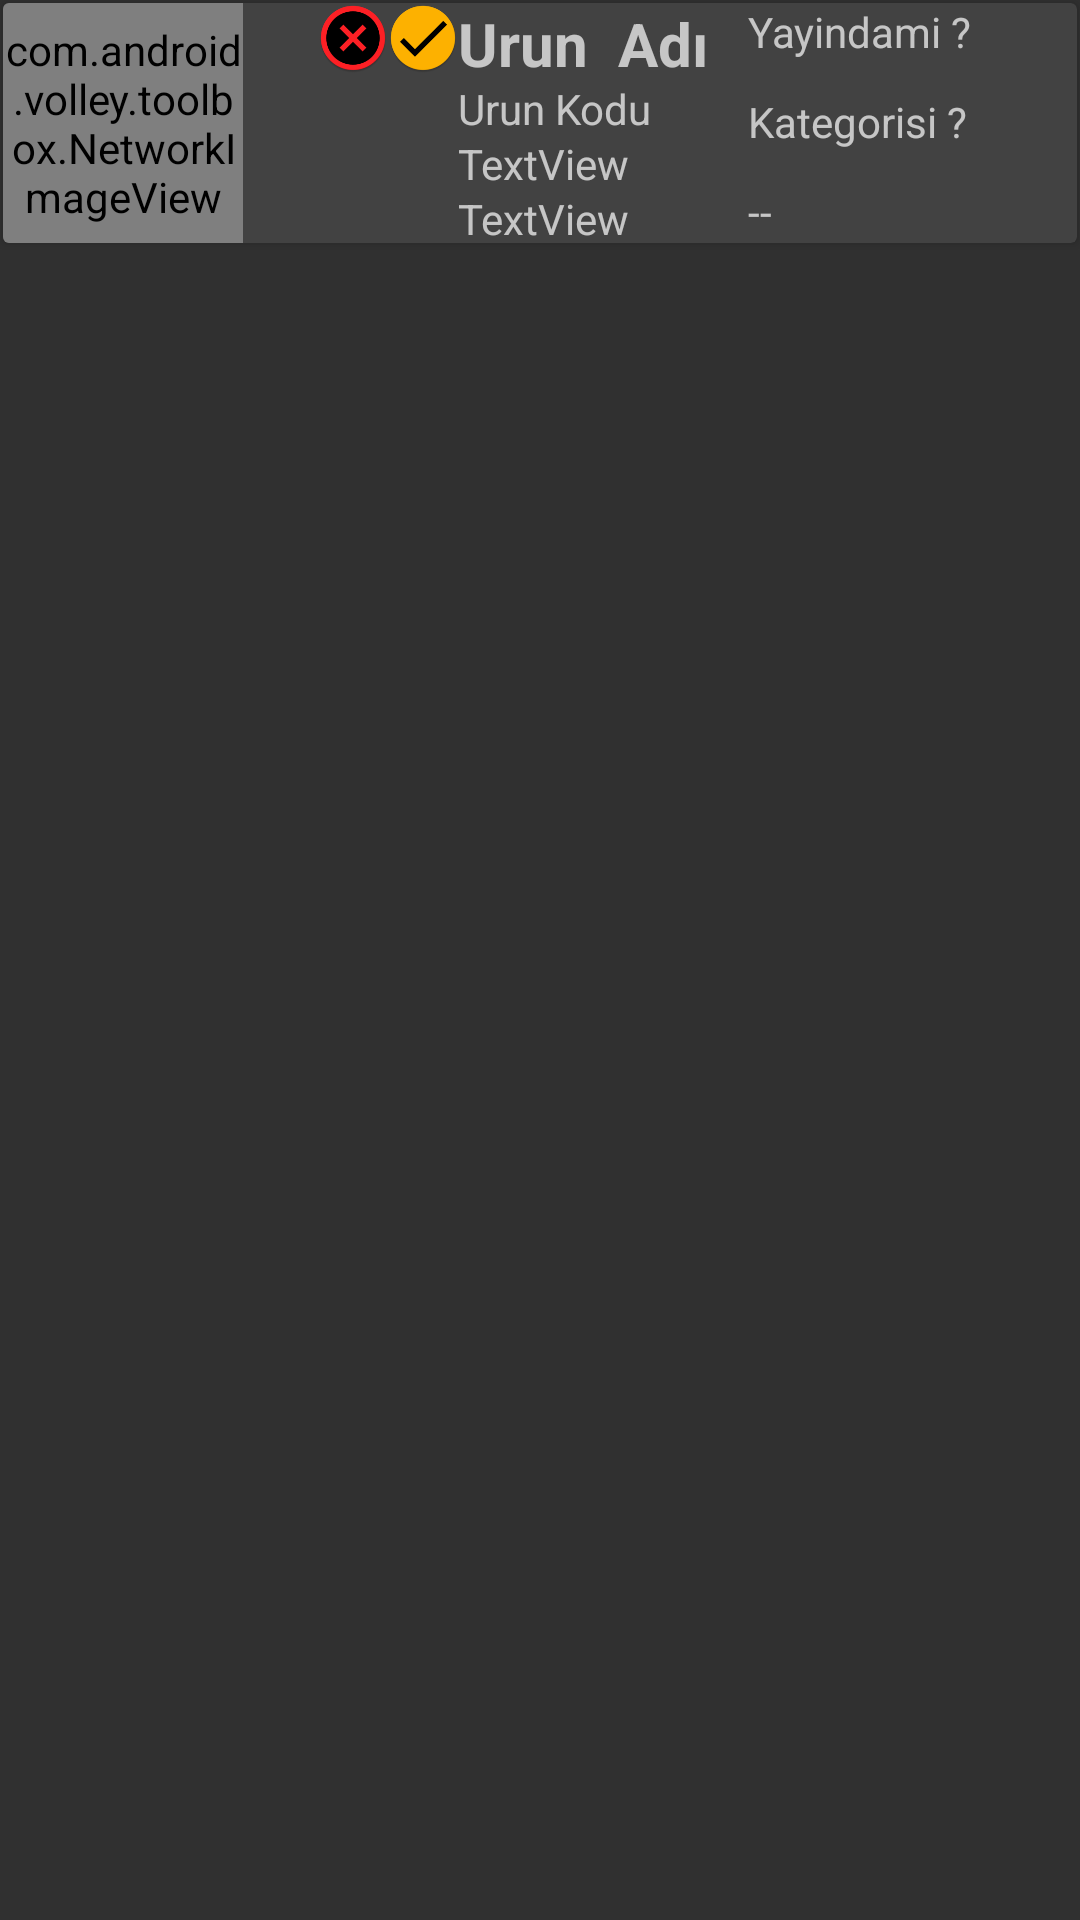

Icons on this 1080x1920 Android screen, each with its box as [x1=x1, y1=y1, x2=x2, y2=y2]:
aktif: [x1=391, y1=6, x2=455, y2=70]
pasif: [x1=321, y1=6, x2=385, y2=70]
